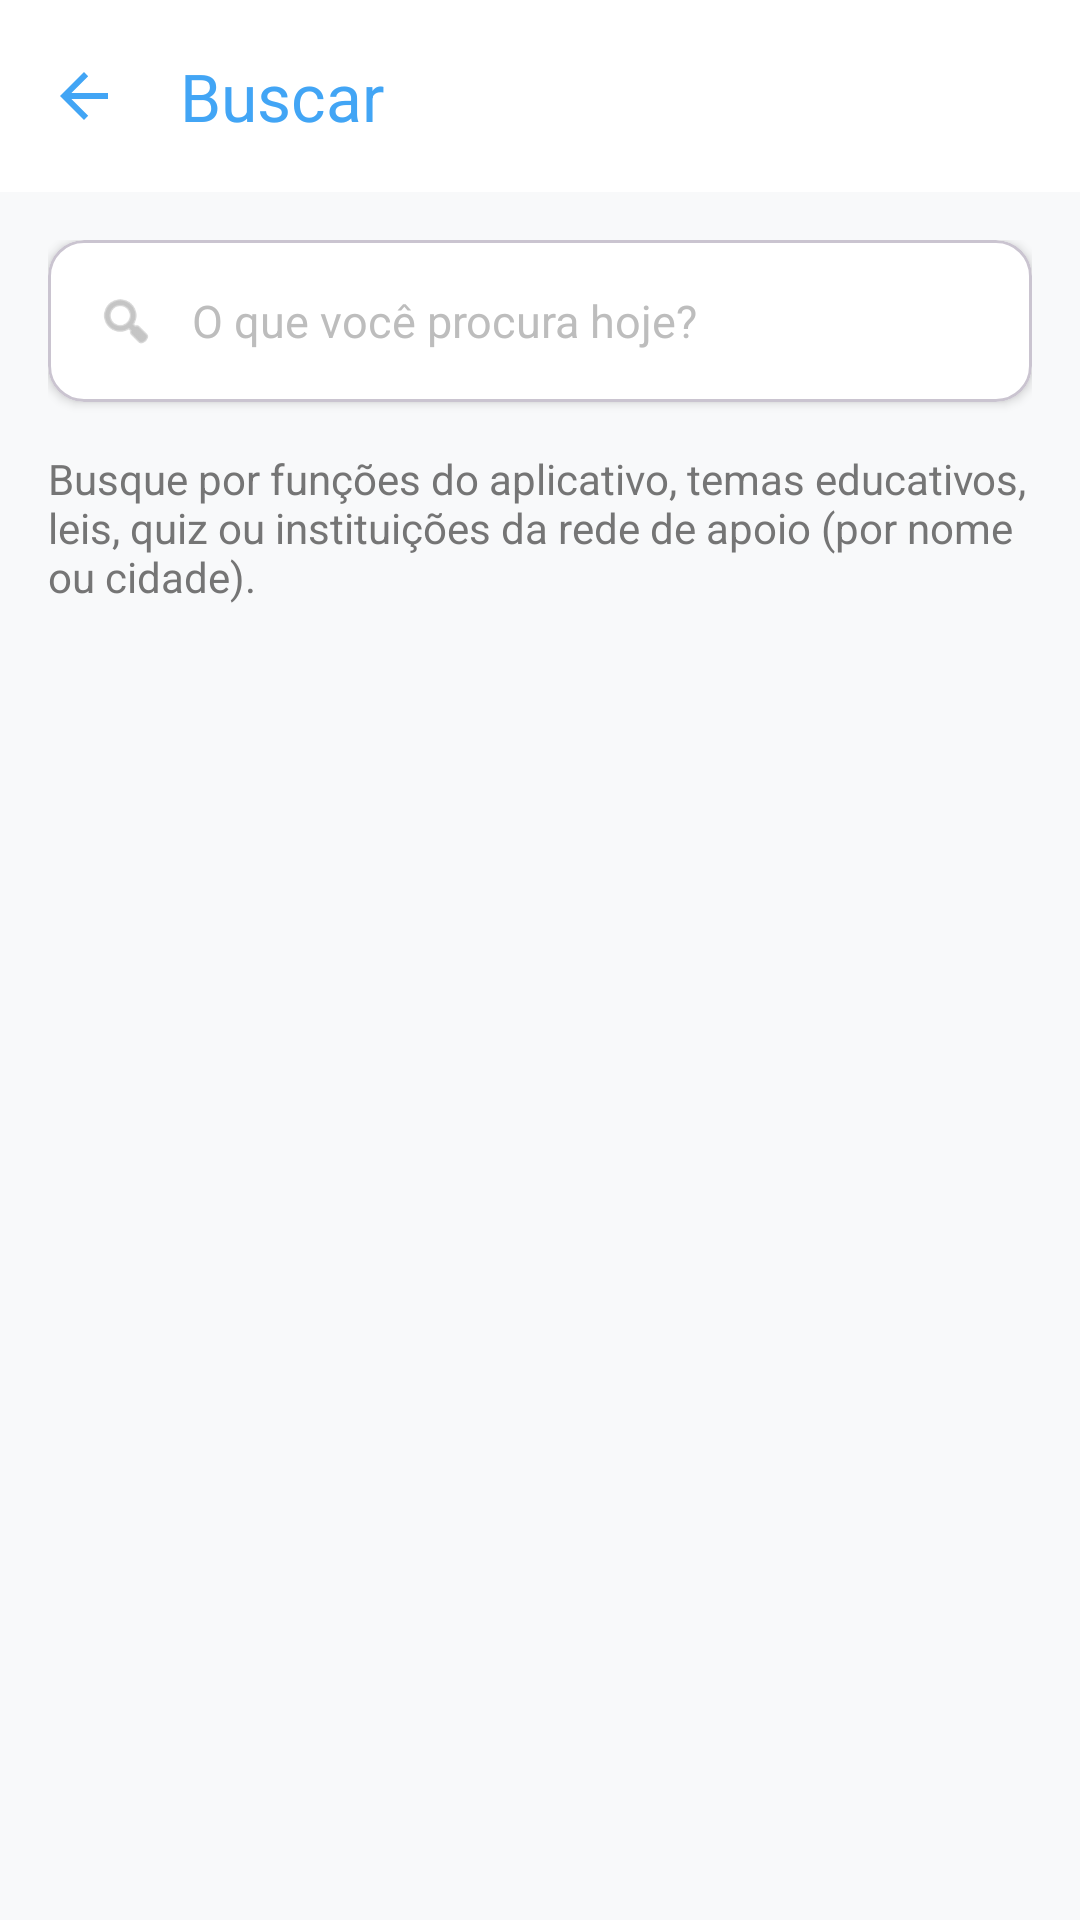

Locate icon controls on the screen. Image size 1080*1920, boxes as [x1, y1, x2, y2].
Lupa: [104, 299, 148, 343]
